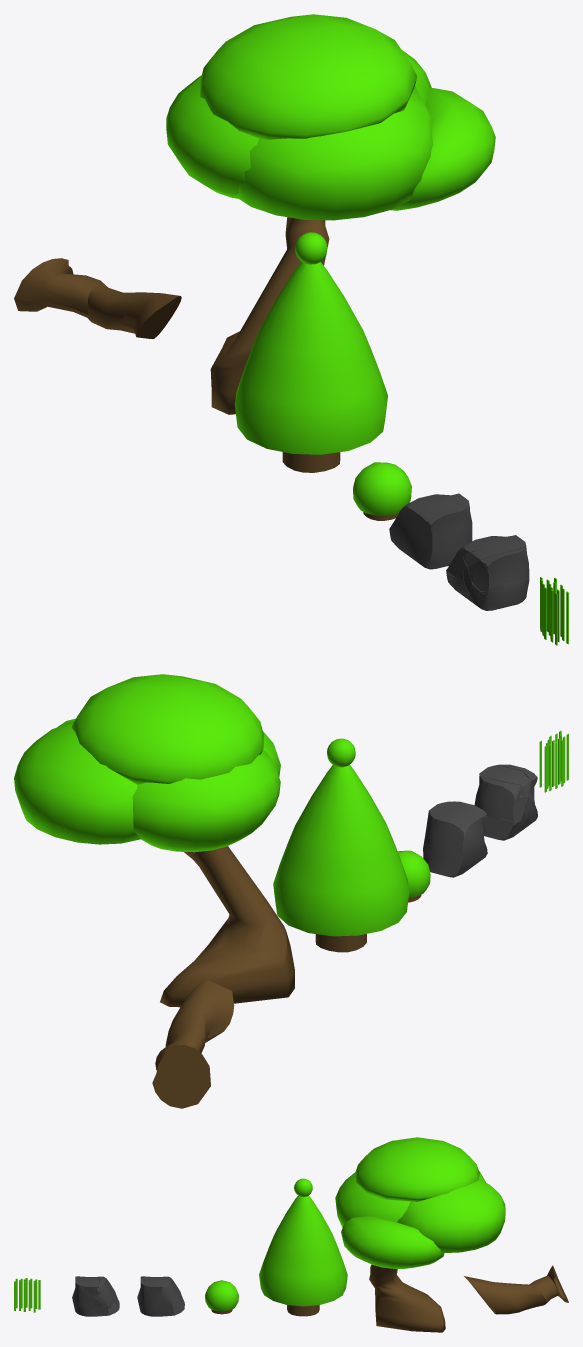
Rendered from GrassAndTreesAndStuff.fbx.
The picture shows the model from 3 angles, top to bottom: view 1: azimuth 30°, elevation 25°; view 2: azimuth 150°, elevation 25°; view 3: azimuth 270°, elevation 25°; orthographic projection. The views are drawn at different scales.
Parts seen in each view (by area): view 1: Tree.005, Tree.002, Tree.006, Rock Crack, Rock, Tree, Cube; view 2: Tree.005, Tree.002, Tree.006, Rock, Rock Crack, Cube, Tree; view 3: Tree.005, Tree.002, Tree.006, Rock, Rock Crack, Tree, Cube.
Boxes of the visible parts, left/top/right/bottom form: Tree.005: left=166, top=14, right=495, bottom=414; Tree.002: left=234, top=232, right=387, bottom=472; Tree.006: left=14, top=258, right=181, bottom=338; Rock Crack: left=446, top=535, right=529, bottom=610; Rock: left=389, top=493, right=472, bottom=569; Tree: left=353, top=462, right=411, bottom=520; Cube: left=540, top=577, right=568, bottom=645; Tree.005: left=14, top=674, right=294, bottom=1007; Tree.002: left=273, top=738, right=409, bottom=952; Tree.006: left=152, top=980, right=234, bottom=1108; Rock: left=423, top=801, right=487, bottom=877; Rock Crack: left=474, top=764, right=537, bottom=840; Cube: left=539, top=730, right=568, bottom=792; Tree: left=398, top=850, right=430, bottom=902; Tree.005: left=335, top=1137, right=505, bottom=1332; Tree.002: left=259, top=1178, right=347, bottom=1316; Tree.006: left=464, top=1265, right=568, bottom=1314; Rock: left=137, top=1276, right=184, bottom=1316; Rock Crack: left=72, top=1276, right=119, bottom=1316; Tree: left=205, top=1280, right=238, bottom=1314; Cube: left=14, top=1278, right=40, bottom=1312.
Bounding box in the file's own units: 1339 × 1319 × 3407.
